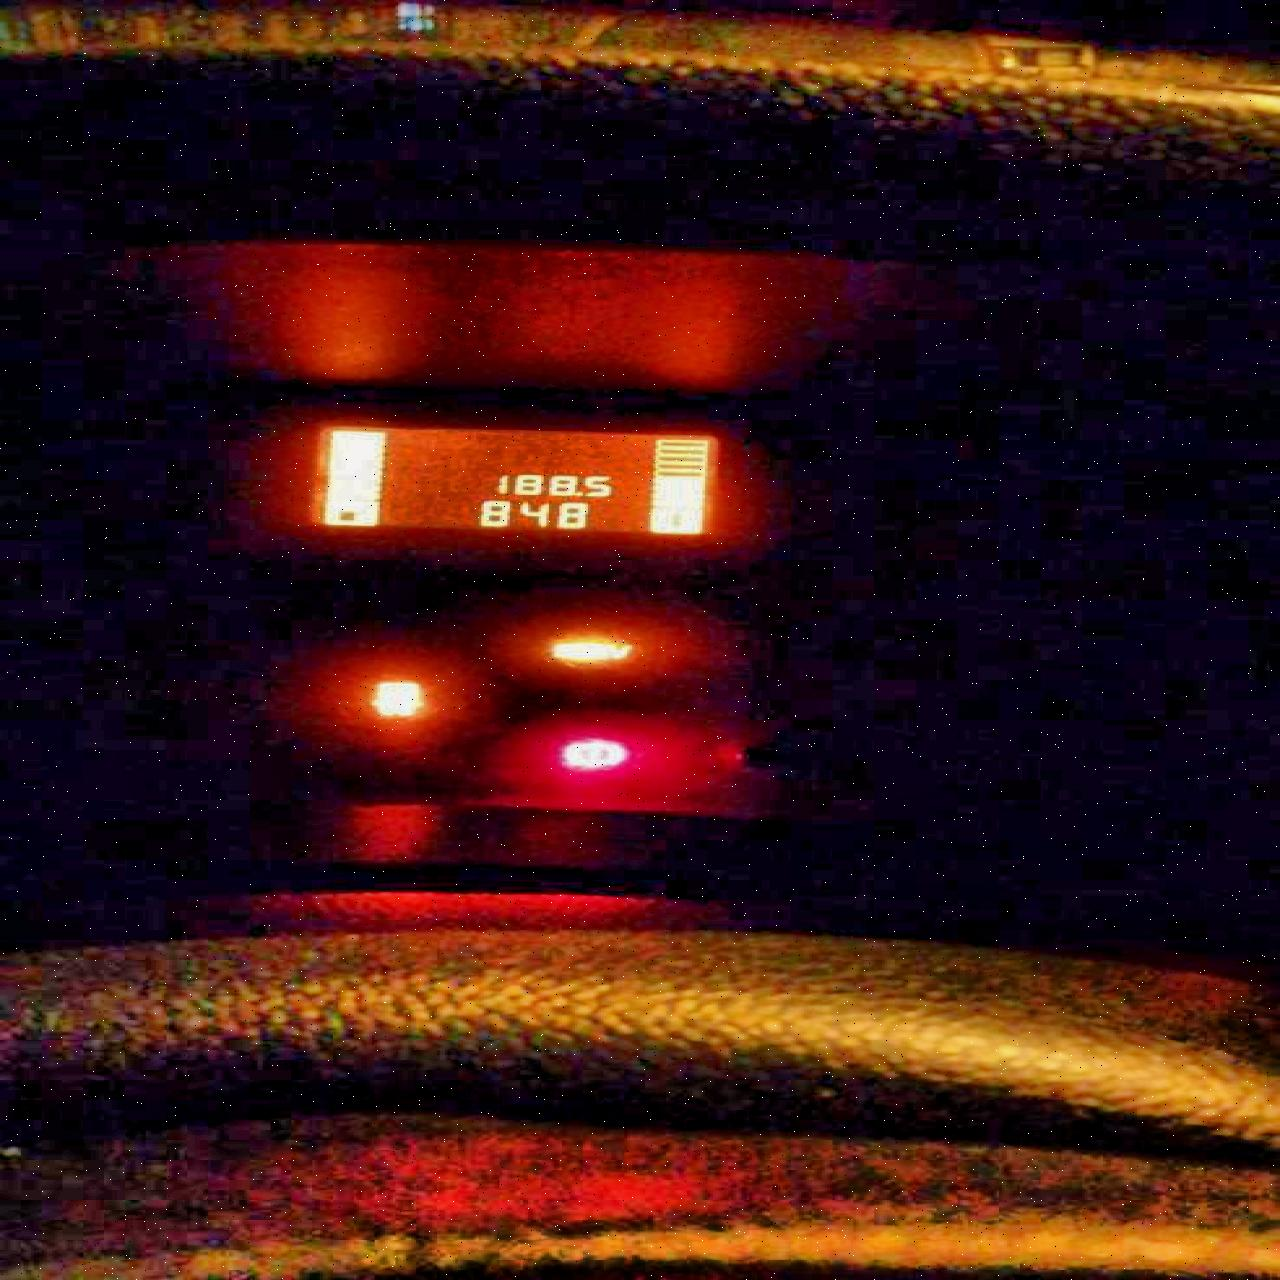-: (572, 490, 583, 495)
1: (489, 472, 508, 493)
4: (515, 498, 549, 526)
5: (583, 474, 614, 496)
8: (476, 497, 510, 526), (552, 501, 588, 527), (510, 472, 542, 496), (546, 472, 574, 496)
odometer: (297, 420, 723, 539)
